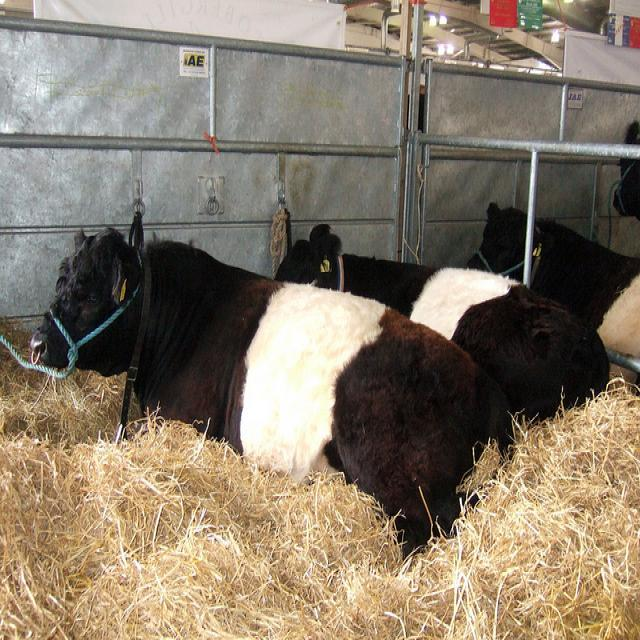cow: (28, 223, 511, 557), (274, 220, 608, 423), (463, 200, 639, 360), (613, 118, 639, 222)
